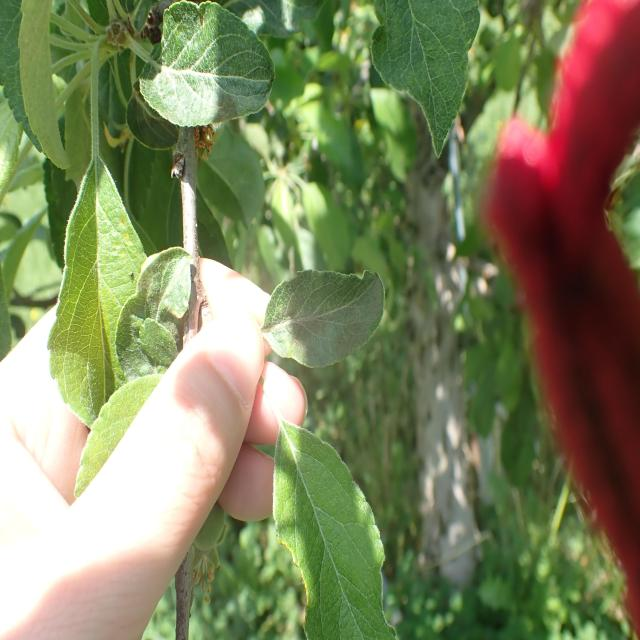scab: (280, 274, 382, 368)
